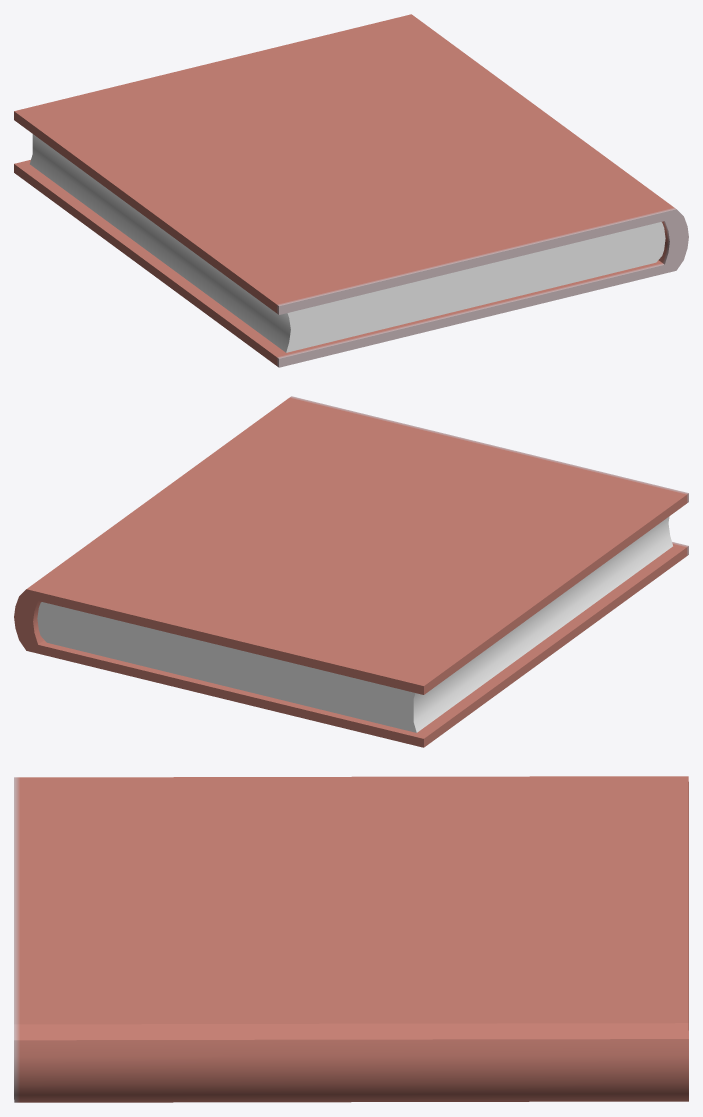
File: redbook.fbx
3 renders of one model, top to bottom at view 1: azimuth 30°, elevation 25°; view 2: azimuth 150°, elevation 25°; view 3: azimuth 270°, elevation 25°, orthographic. The views are drawn at different scales.
Parts seen in each view (by area): view 1: polySurface6; view 2: polySurface6; view 3: polySurface6.
Boxes of the visible parts, bbox=[...] form: polySurface6: bbox=[14, 14, 688, 367]; polySurface6: bbox=[14, 396, 688, 747]; polySurface6: bbox=[14, 776, 688, 1102].
Size of the model in its own units: 0.00277 by 0.000405 by 0.00311.
Materials: 1 (1 with a texture image).
